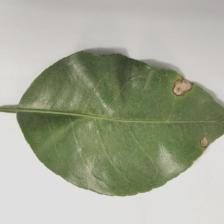canker: (156, 73, 219, 160)
